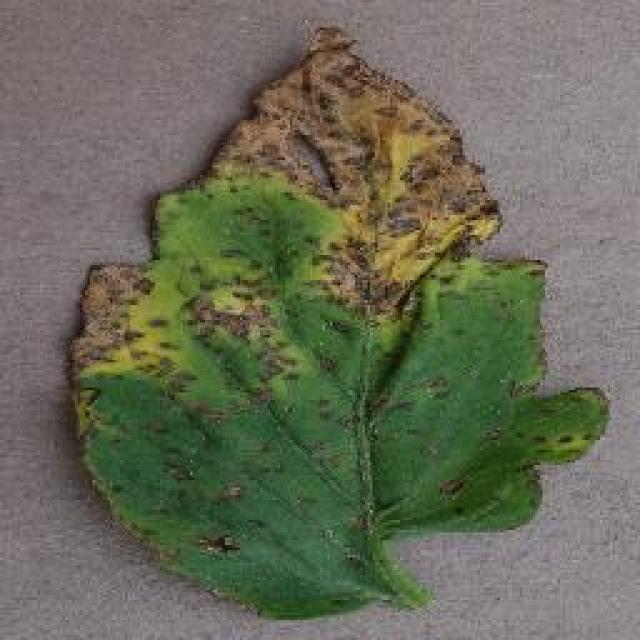Tomato___Bacterial_spot: (66, 21, 617, 624)
